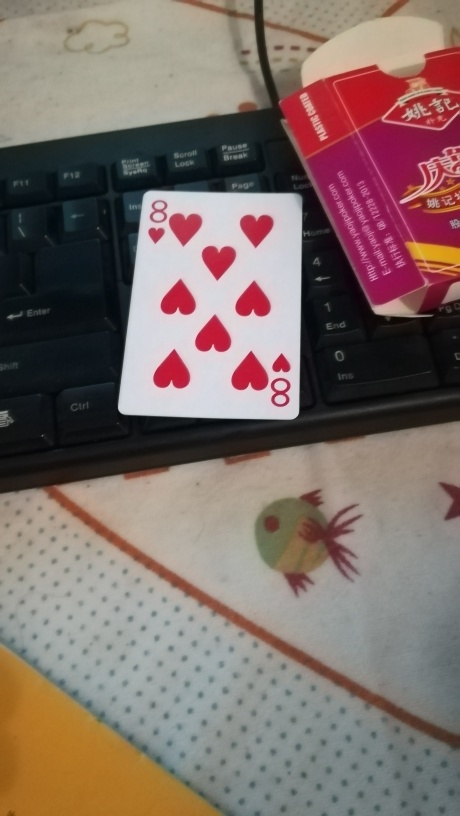hx 8: (119, 189, 306, 422)
